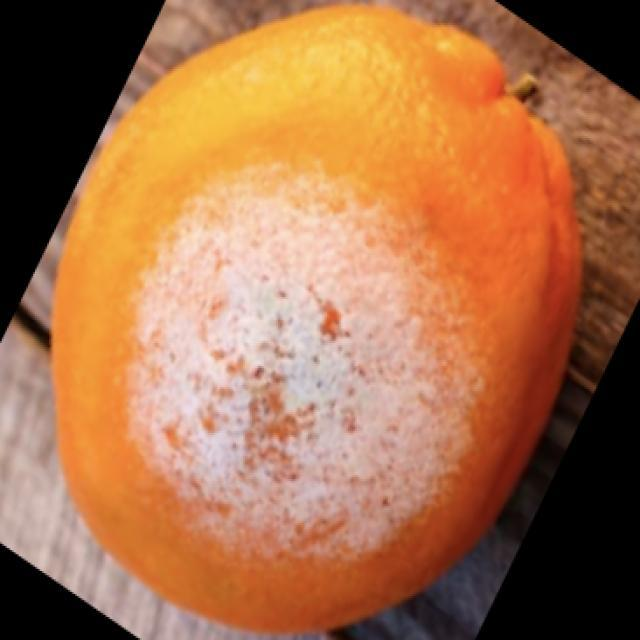sedikit-busuk: (53, 5, 580, 632), (134, 196, 456, 551)
